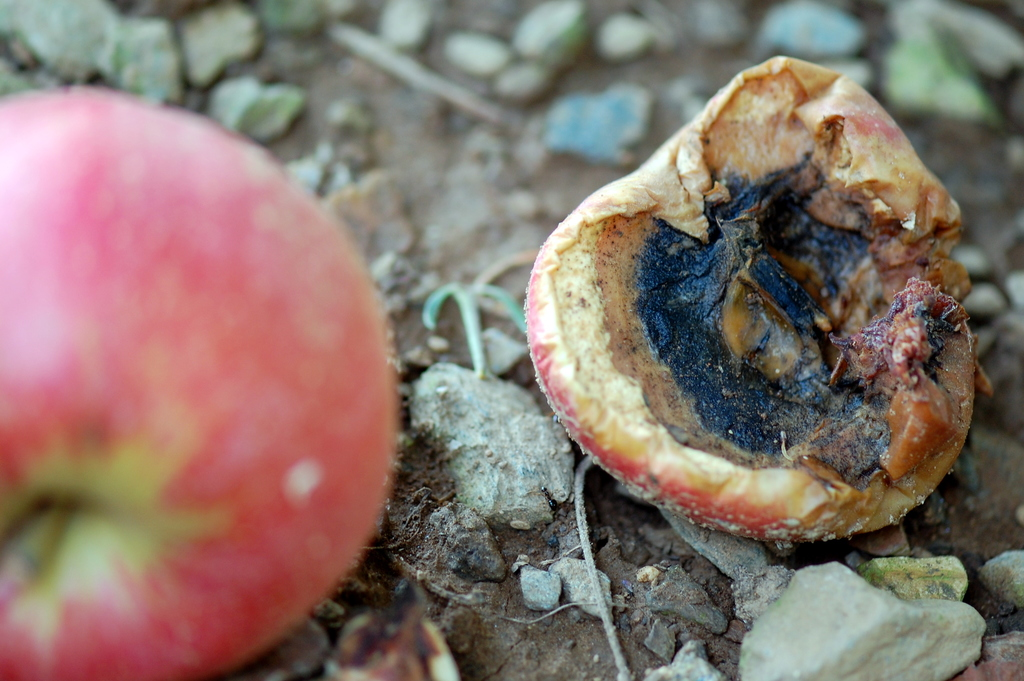Apple: (14, 70, 385, 672)
